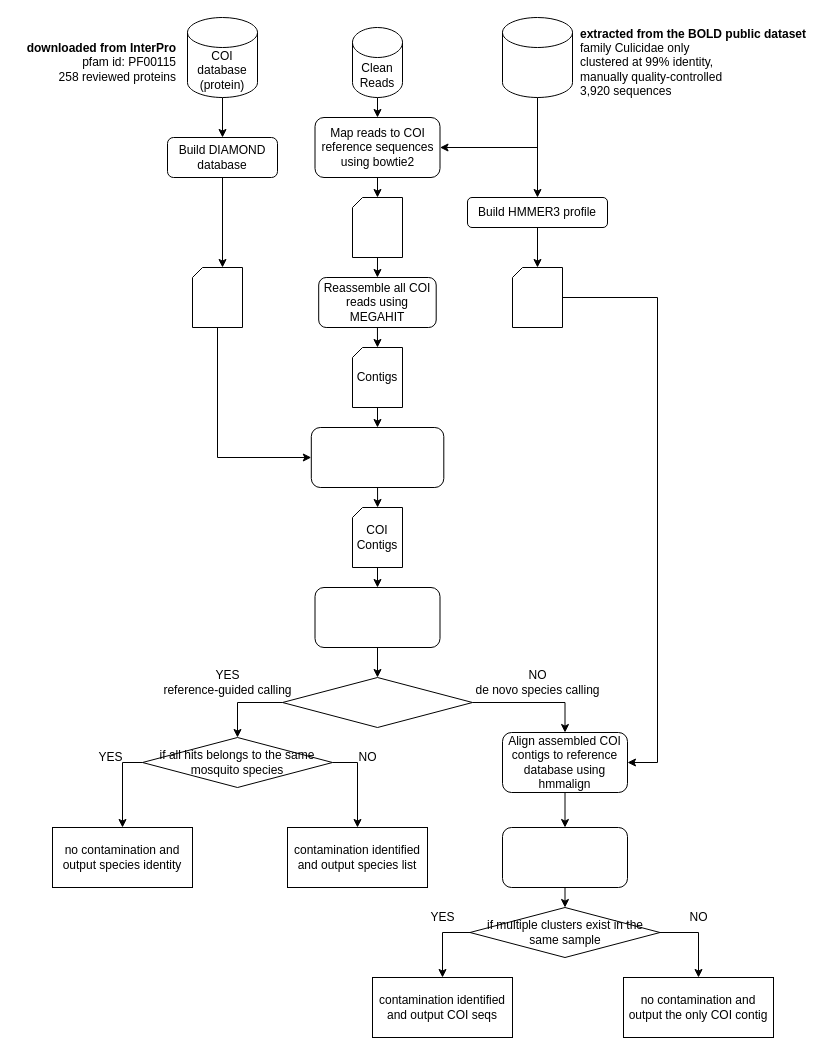
The diagram is 835 pixels wide and 1055 high, and some of its shapes have lost their labels. Each missing label, with the centre of its shape:
Calculate pairwise similarity and cluster contigs at 98% identity: (565,857)
COI database (nucleotide): (537,57)
COI diamond db: (217,297)
COI HMM profile: (537,297)
if all blast hits of a sample have identity greater than 98%: (377,702)
Reads mapped to COI: (377,227)
Search against COI protein database using diamond blastx: (377,457)
Search against the whole nt database using blastn: (377,617)
